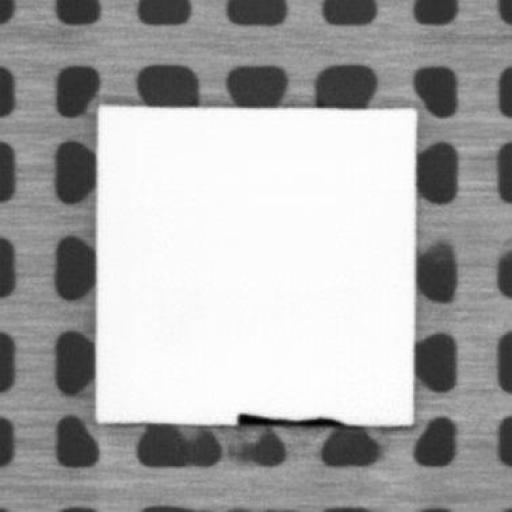DIE_BROKEN: (233, 408, 355, 427)
